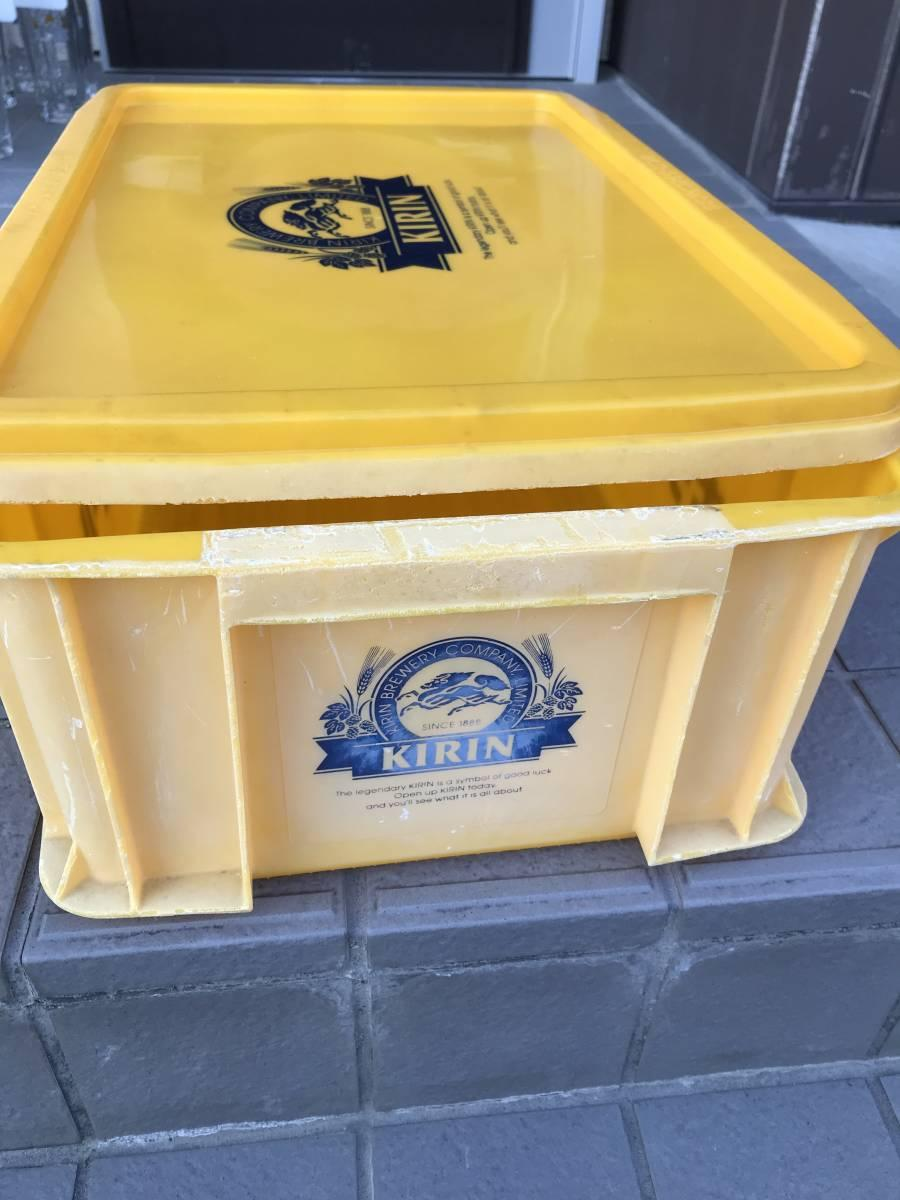plastic: (0, 493, 895, 916), (0, 85, 899, 505), (601, 0, 899, 339)
